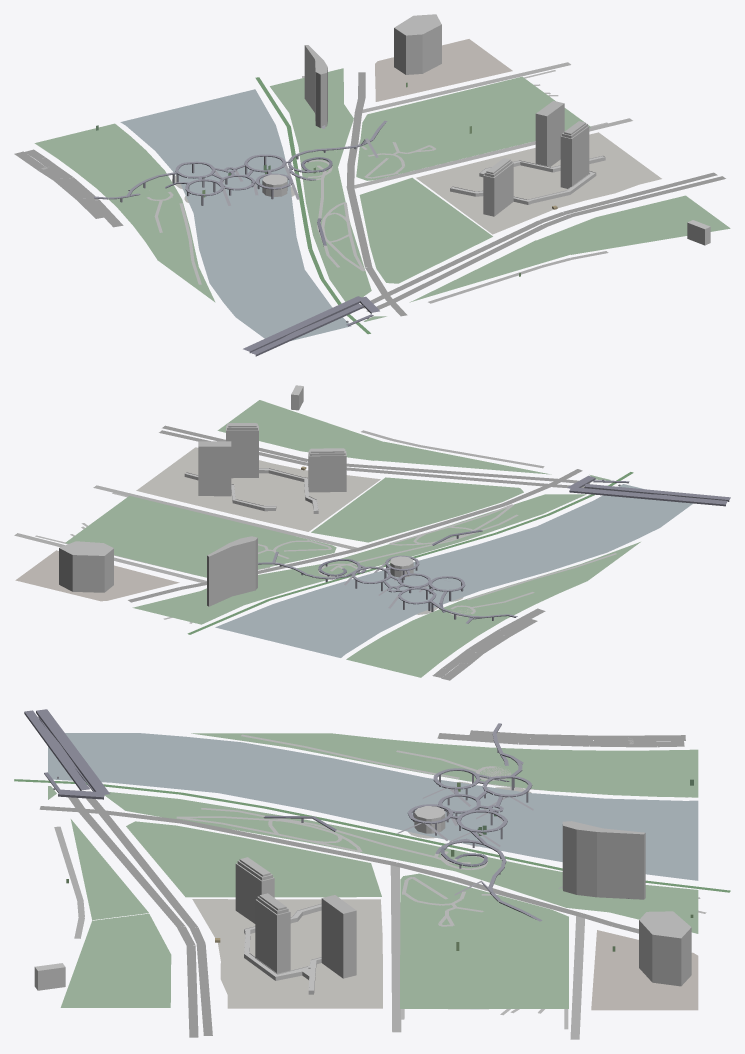
3 views of the same model, one above another, from view 1: azimuth 30°, elevation 25°; view 2: azimuth 150°, elevation 25°; view 3: azimuth 270°, elevation 25° (orthographic). The views are drawn at different scales.
Size of the model in its own units: 588 by 58.46 by 551.
